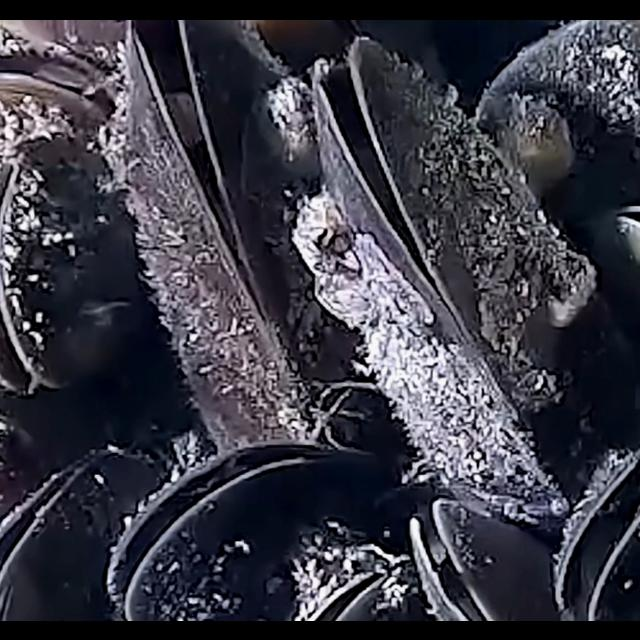Oyster-Closed: (474, 19, 640, 290)
Oyster-Open: (296, 33, 620, 523), (109, 19, 373, 455), (108, 438, 382, 620), (0, 137, 134, 395), (0, 444, 182, 620), (410, 496, 566, 620), (0, 36, 126, 174), (558, 446, 640, 620), (307, 558, 395, 620)
